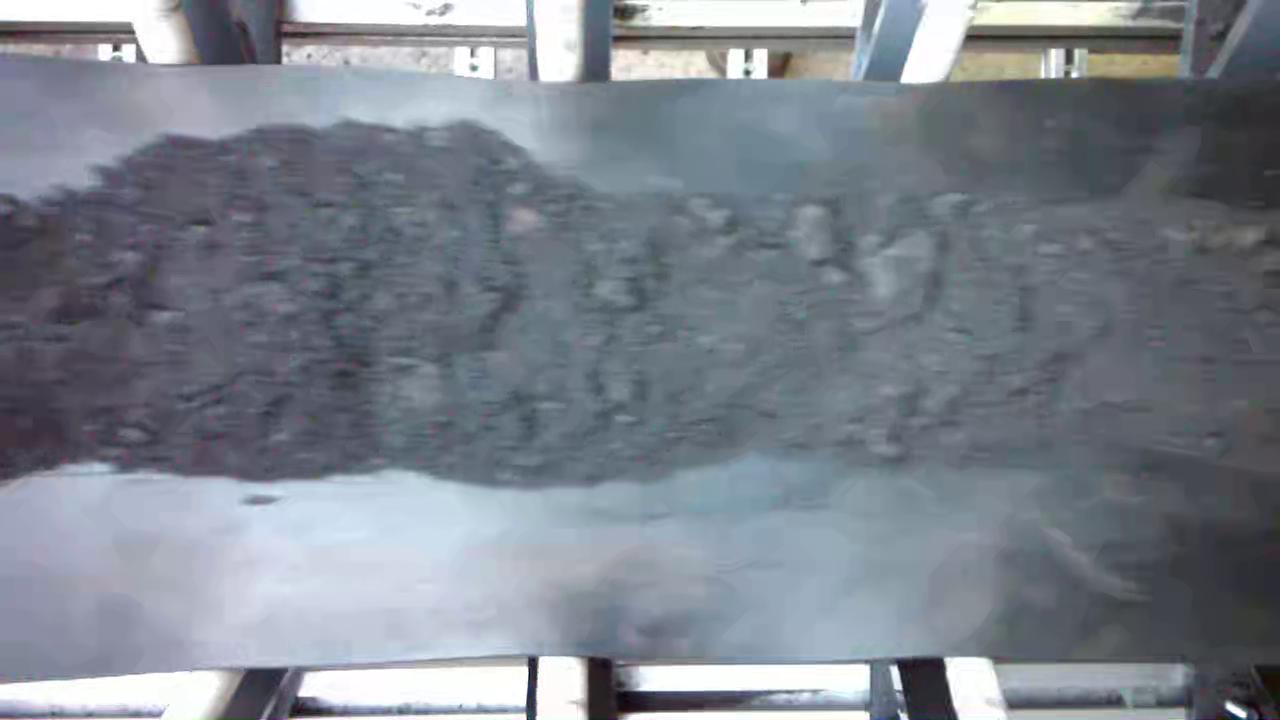conveyor: (10, 85, 1280, 656)
